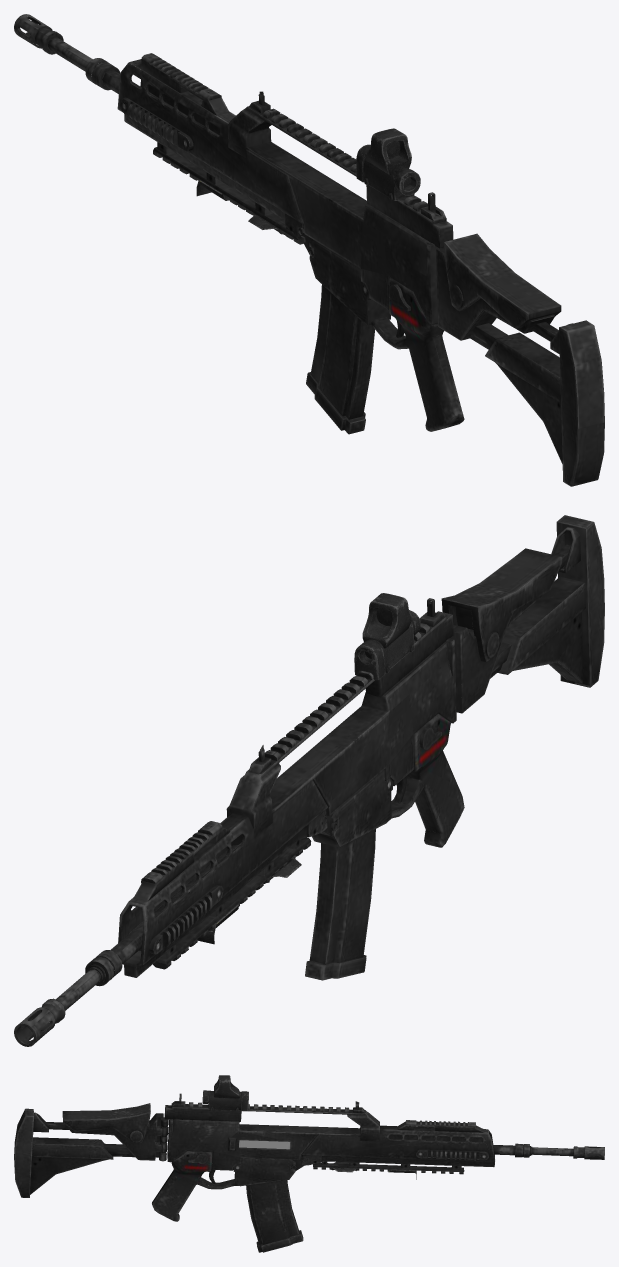
The picture shows the model from 3 angles, top to bottom: view 1: azimuth 30°, elevation 25°; view 2: azimuth 150°, elevation 25°; view 3: azimuth 270°, elevation 25°; orthographic projection. The views are drawn at different scales.
Parts seen in each view (by area): view 1: body, mag; view 2: body, mag; view 3: body, mag.
Part boxes in pixels (x1,y1,x2,y2): body: (14, 14, 604, 486); mag: (306, 284, 374, 434); body: (14, 515, 604, 1046); mag: (305, 829, 375, 980); body: (14, 1075, 604, 1221); mag: (246, 1180, 303, 1252).
Bounding box in the file's own units: 0.0527 × 0.3239 × 0.999.
3 materials, 3 textured.
